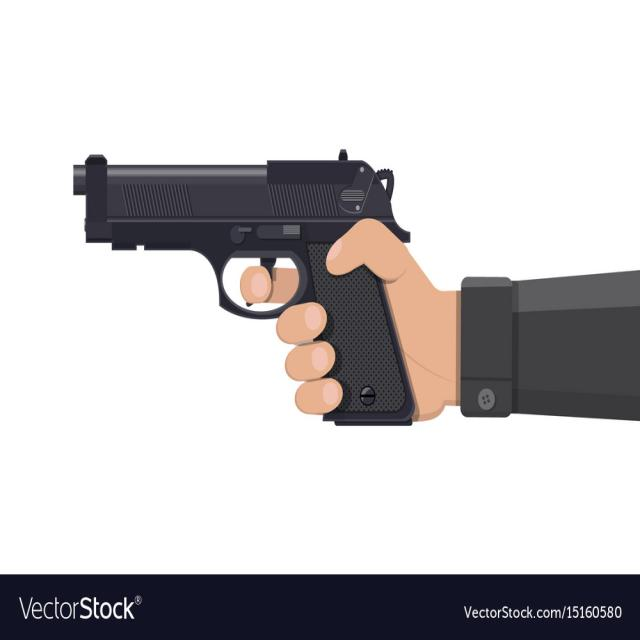HandGun: (76, 155, 416, 427)
